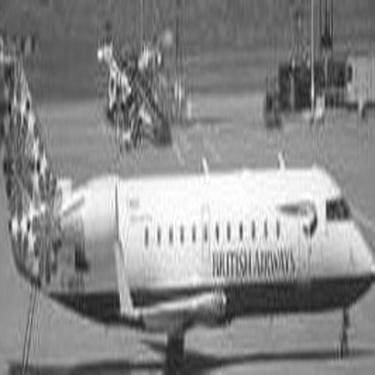airplane: (2, 1, 371, 373)
